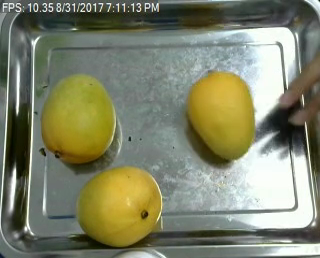Mango: (72, 162, 168, 244), (180, 69, 258, 162), (41, 75, 121, 162)
